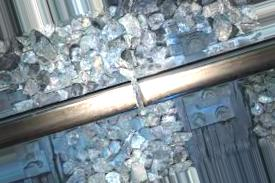tracks_fault: (126, 77, 151, 111)
